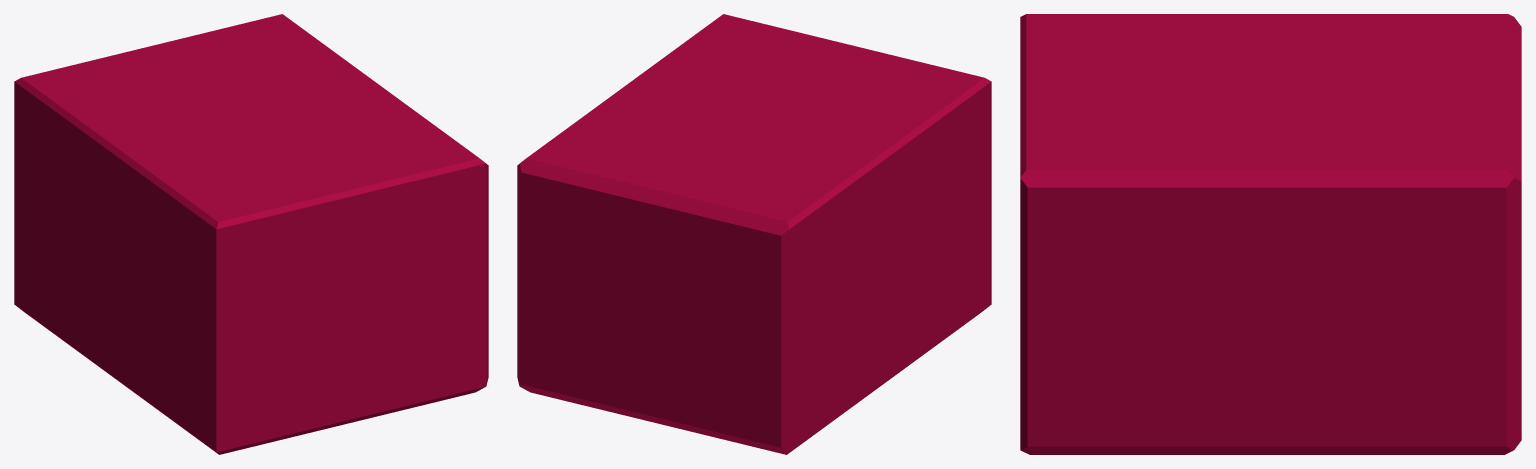
Rendered from Building4.fbx.
3 views of the same model, side by side, from view 1: azimuth 30°, elevation 25°; view 2: azimuth 150°, elevation 25°; view 3: azimuth 270°, elevation 25° (orthographic). The views are drawn at different scales.
Parts seen in each view (by area): view 1: Building4; view 2: Building4; view 3: Building4.
Part boxes in pixels (<box>): Building4: <box>14,14,488,454</box>; Building4: <box>517,14,991,454</box>; Building4: <box>1020,14,1521,454</box>.
Size of the model in its own units: 3438 by 2800 by 4437.
